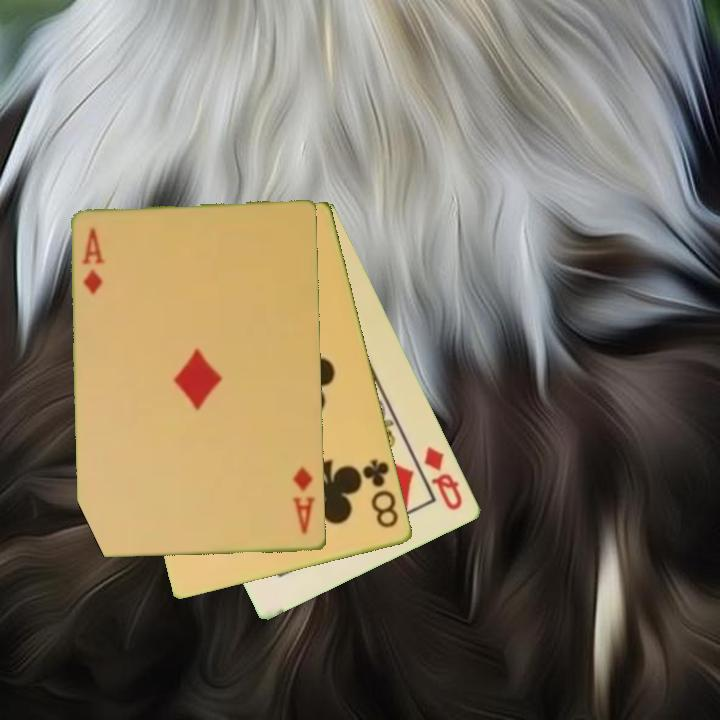8c: (359, 455, 402, 531)
Ad: (289, 463, 318, 537), (79, 225, 108, 297)
Qd: (420, 443, 466, 514)
